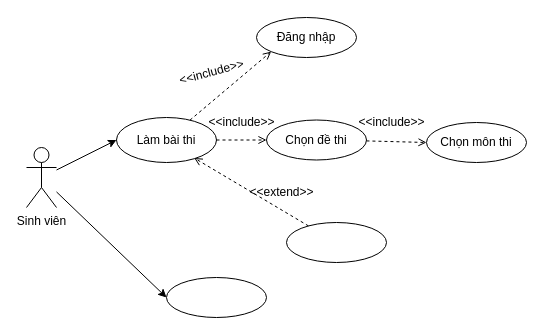
Image size: 544x335. Some labels were removed from this diagram. The centre of each missing label's shape, as x and y in pixels:
"Chọn đáp án" belongs at [336,242].
"Nộp bài" belongs at [216,297].
